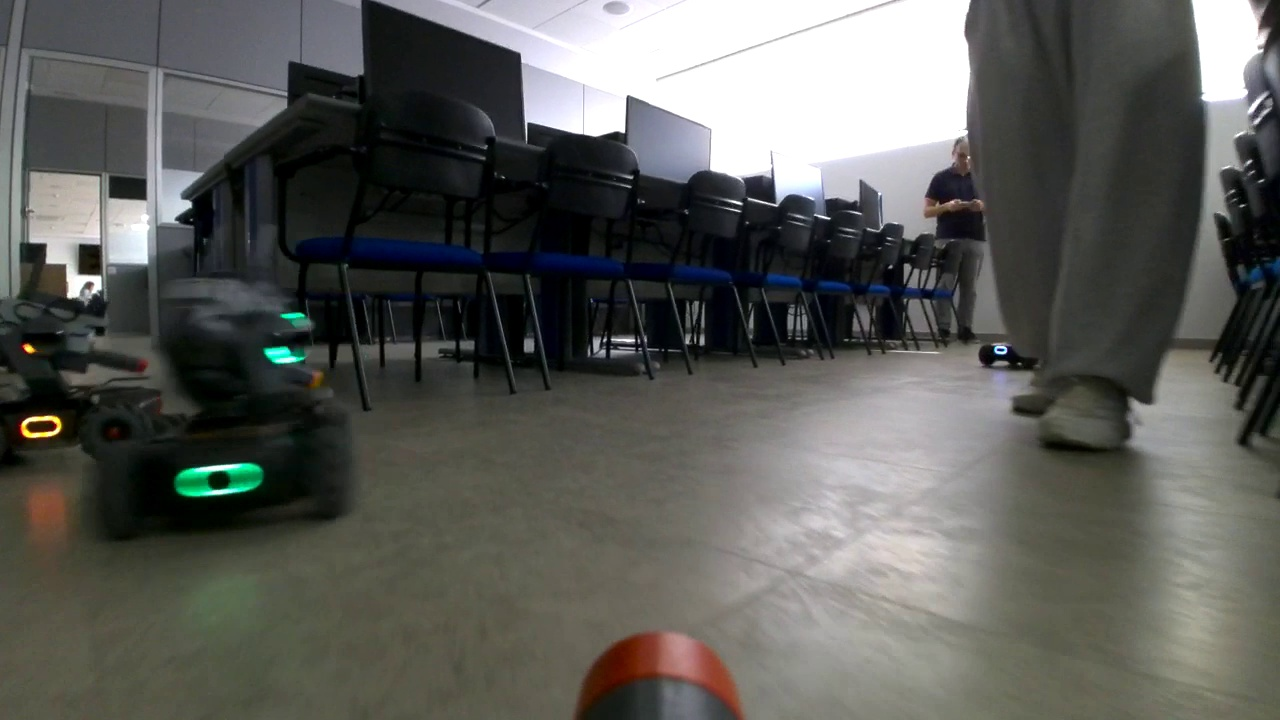robot: (94, 267, 353, 526), (5, 286, 164, 457), (979, 294, 1056, 369)
